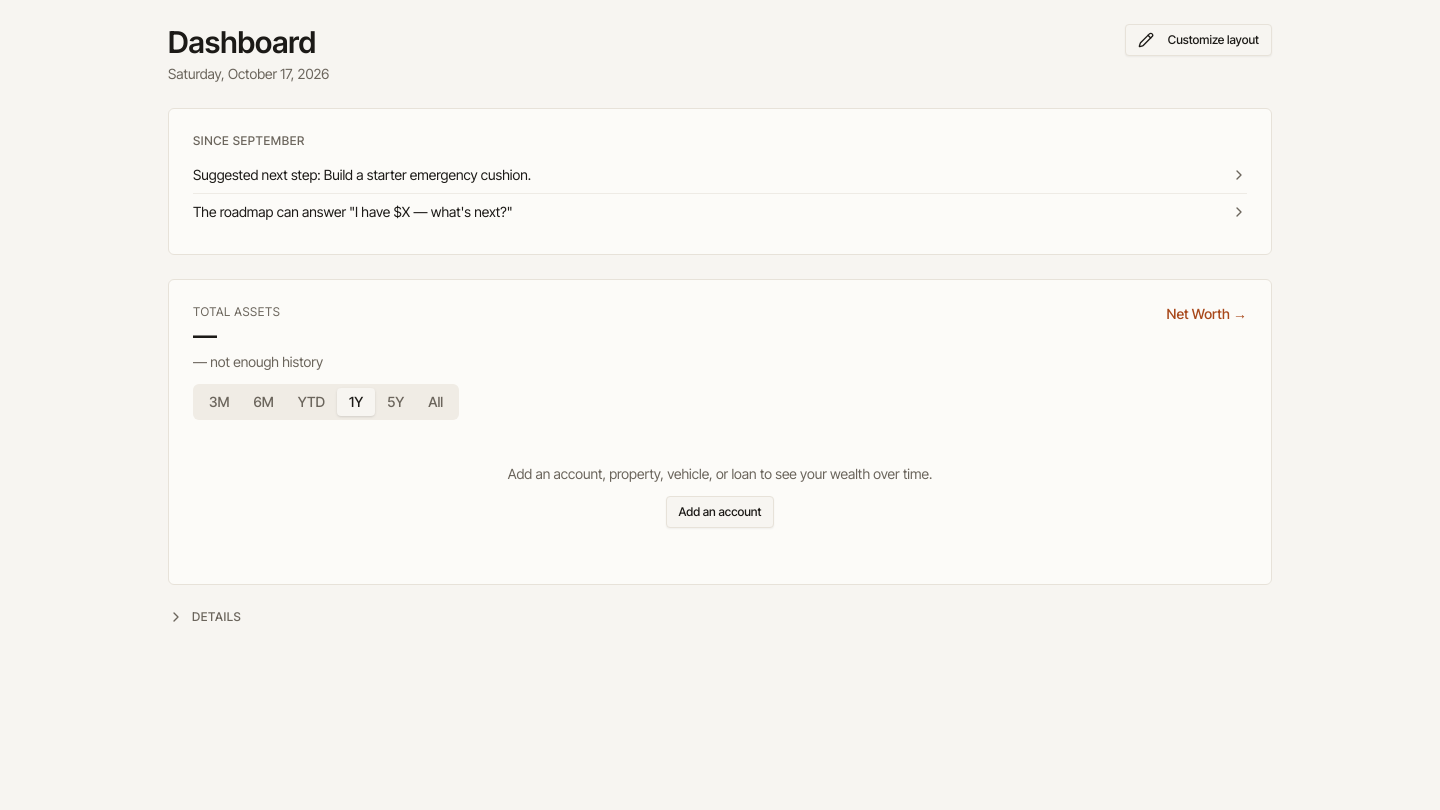
W13 Details region + fixed hero chart › Customize forces the Details region open so pills/widgets stay editable
Click the button with test id "dashboard-edit-toggle" at (1198, 40), box [1125,24,1272,56]
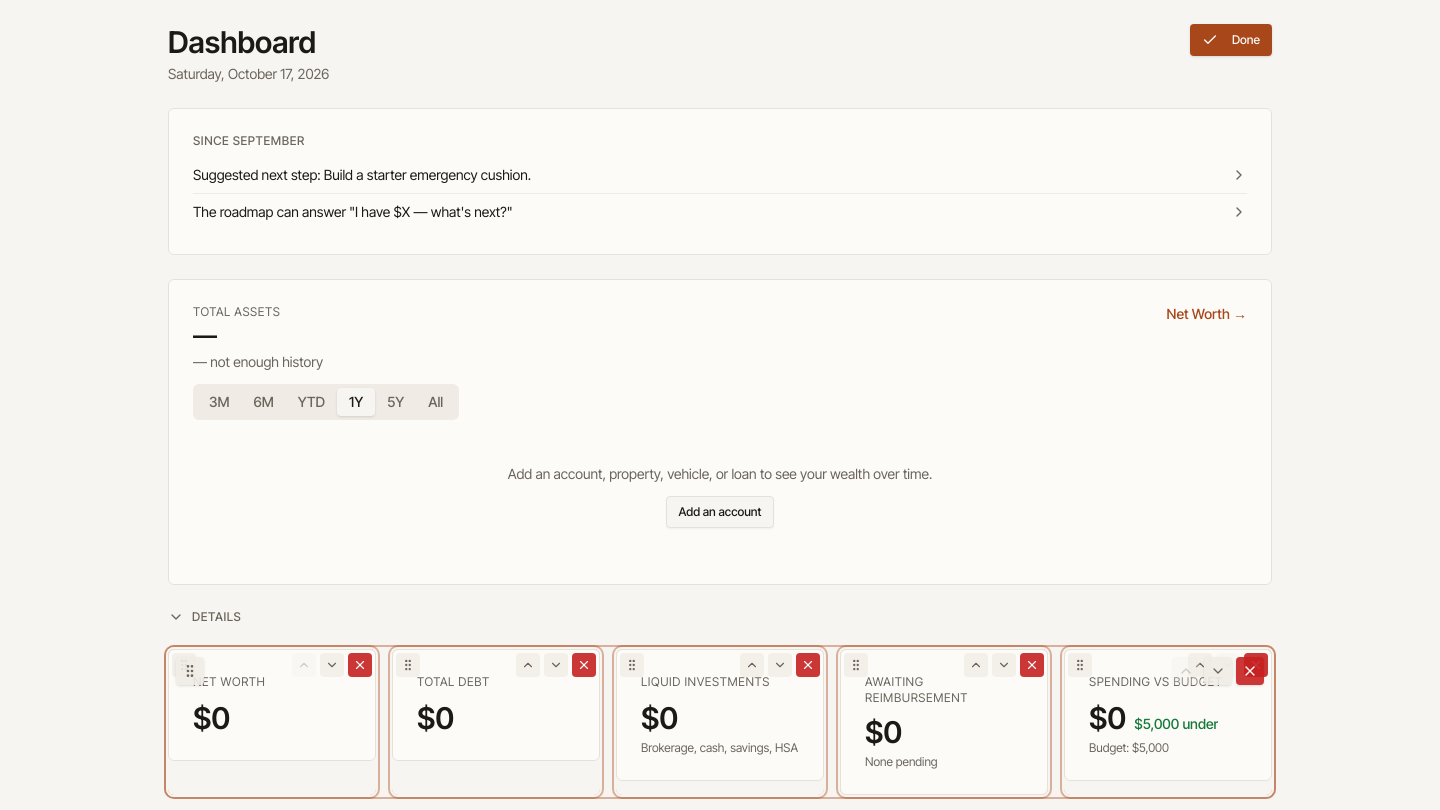
expect the element with test id "dashboard-pill-grid" is shown: met, box [168,649,1272,795]
